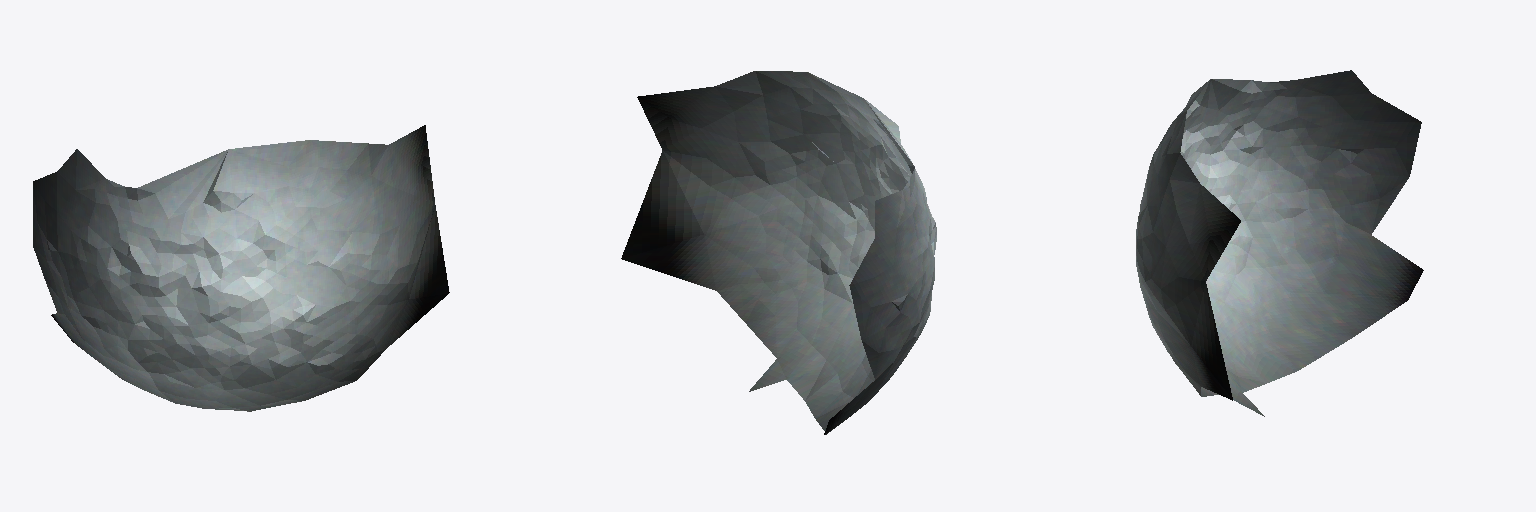
3 renders of one model, left to right at view 1: azimuth 30°, elevation 25°; view 2: azimuth 150°, elevation 25°; view 3: azimuth 270°, elevation 25°, orthographic.
Bounding box in the file's own units: 75.24 × 62.61 × 55.13.
Materials: 1 (1 with a texture image).